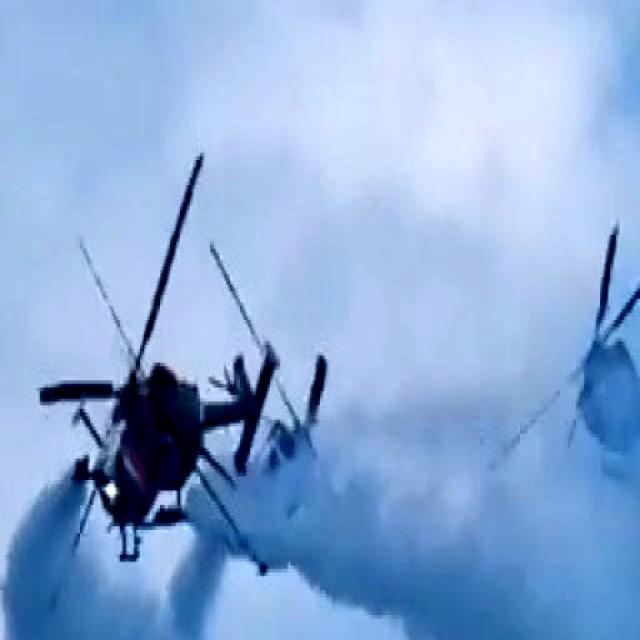drone: (70, 354, 171, 535), (568, 285, 640, 466)
